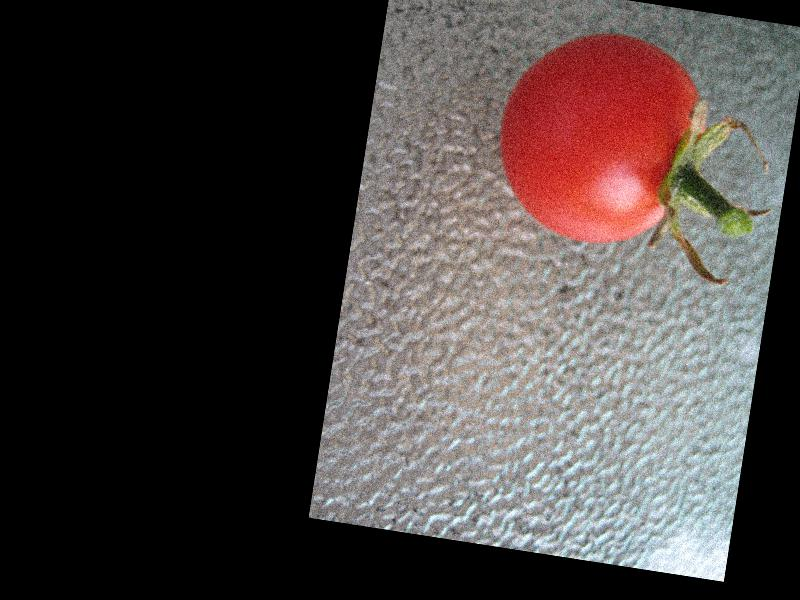Tomato: (484, 20, 707, 258)
